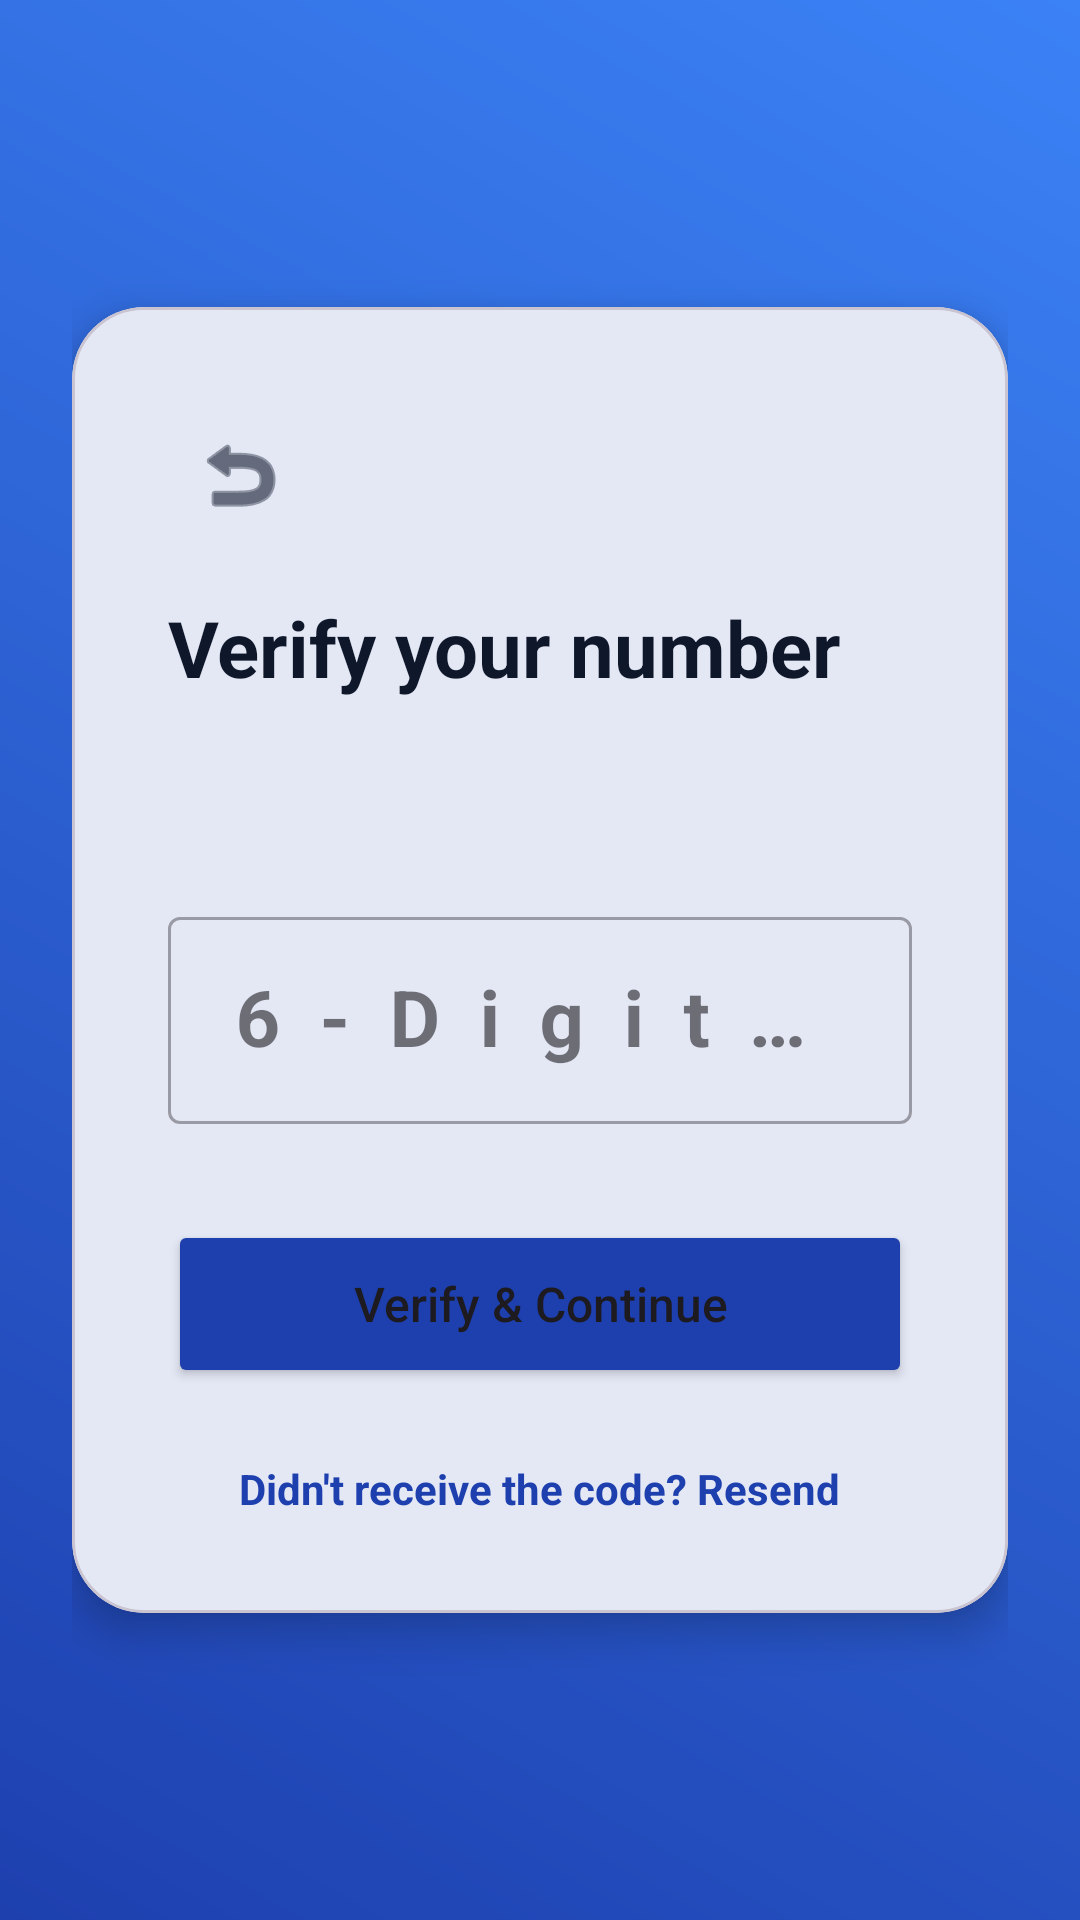

Locate icon controls on the screen. Image size 1080x1920, boxes as (x1, y1, x2, y2).
Back: (207, 444, 276, 507)
